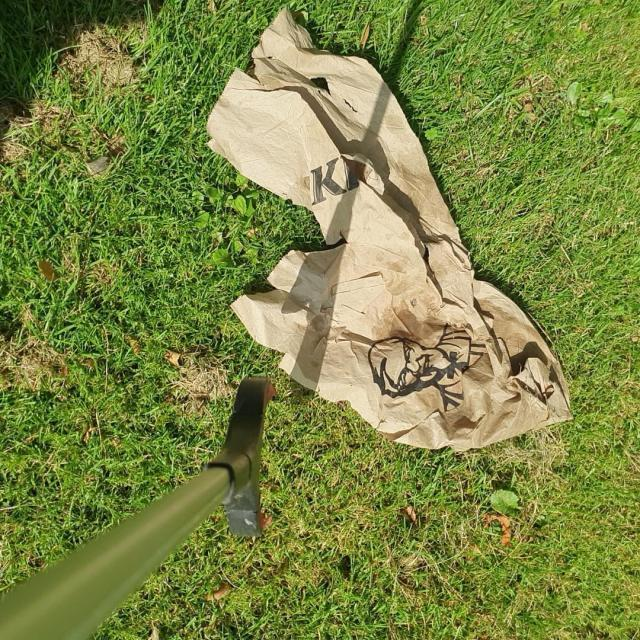Paper: (203, 18, 574, 454)
